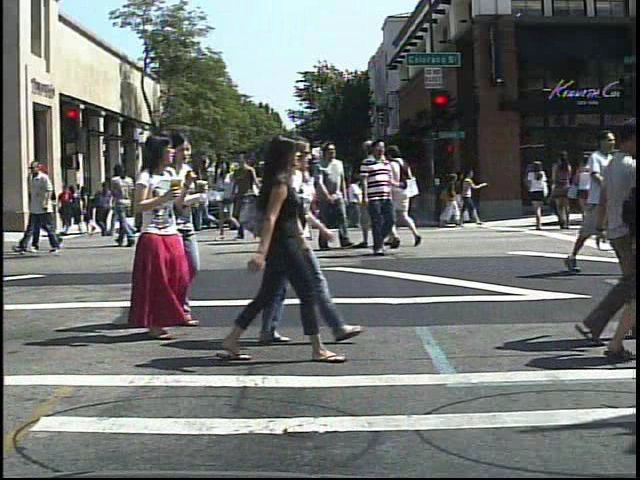person: (230, 132, 346, 368), (115, 130, 194, 342), (581, 107, 637, 355), (265, 134, 326, 349), (561, 125, 621, 278), (164, 134, 205, 331), (359, 138, 407, 260), (322, 140, 367, 256), (362, 136, 405, 253), (265, 140, 303, 258), (263, 144, 301, 248), (143, 157, 184, 252), (391, 140, 424, 251), (296, 147, 329, 248), (108, 160, 144, 251), (525, 154, 555, 235), (259, 166, 279, 234), (60, 183, 80, 233)
